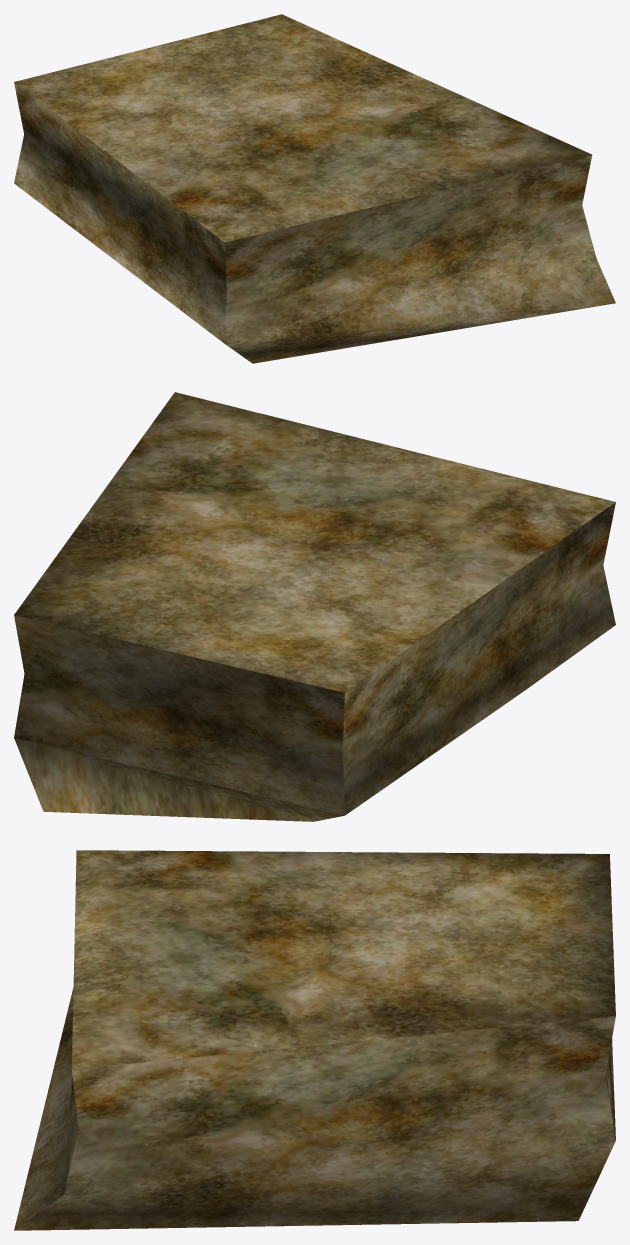
File: TROLLHOLE02_RM_FALL_ROCK10.fbx
3 views of the same model, one above another, from view 1: azimuth 30°, elevation 25°; view 2: azimuth 150°, elevation 25°; view 3: azimuth 270°, elevation 25° (orthographic). The views are drawn at different scales.
Visible parts, largest first — view 1: TROLLHOLE02_RM_FALL_ROCK10; view 2: TROLLHOLE02_RM_FALL_ROCK10; view 3: TROLLHOLE02_RM_FALL_ROCK10.
Part boxes in pixels (x1=…): TROLLHOLE02_RM_FALL_ROCK10: x1=14, y1=14, x2=615, y2=363; TROLLHOLE02_RM_FALL_ROCK10: x1=14, y1=392, x2=615, y2=821; TROLLHOLE02_RM_FALL_ROCK10: x1=14, y1=850, x2=615, y2=1230.
Bounding box in the file's own units: 11358 × 5936 × 13145.
Materials: 1 (1 with a texture image).
